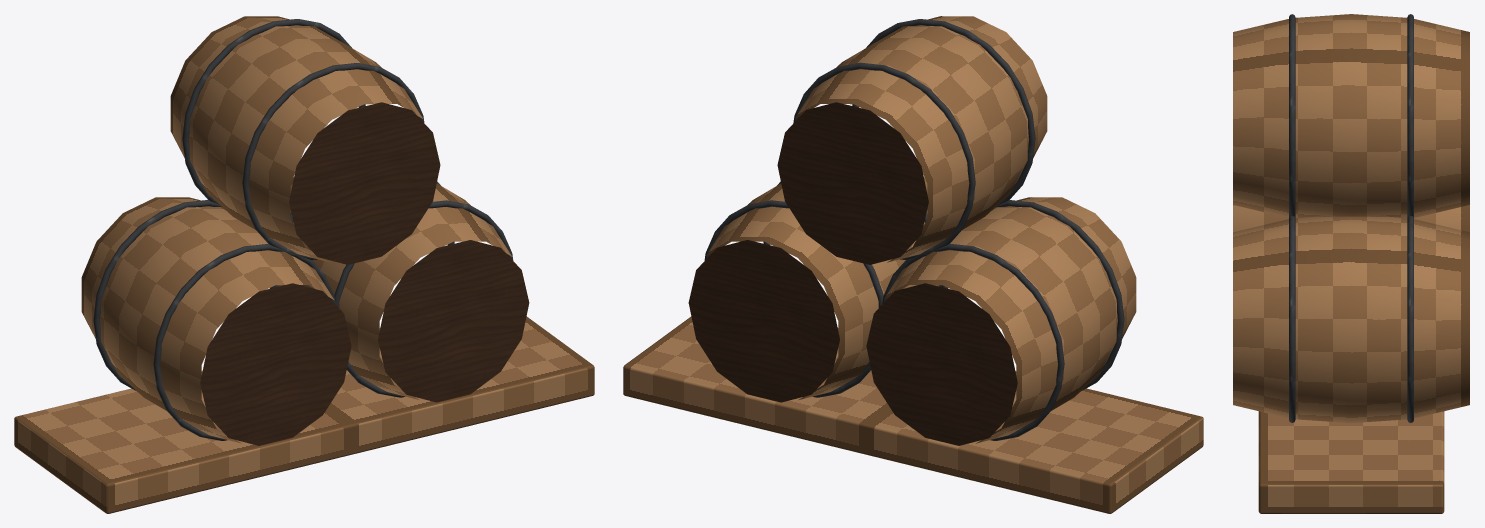
The model's file is barrelStack.glb.
The picture shows the model from 3 angles, left to right: view 1: azimuth 30°, elevation 25°; view 2: azimuth 150°, elevation 25°; view 3: azimuth 270°, elevation 25°; orthographic projection.
Visible parts, largest first — view 1: dyn_wood_variant, barrelStack; view 2: dyn_wood_variant, barrelStack; view 3: dyn_wood_variant, barrelStack.
Part boxes in pixels (x1,y1,x2,y2): dyn_wood_variant: [14, 16, 594, 513]; barrelStack: [93, 19, 529, 445]; dyn_wood_variant: [623, 16, 1203, 513]; barrelStack: [688, 19, 1124, 445]; dyn_wood_variant: [1233, 14, 1469, 513]; barrelStack: [1289, 14, 1413, 422].
Size of the model in its own units: 2 by 1.48 by 0.854.
3 materials, 3 textured.
